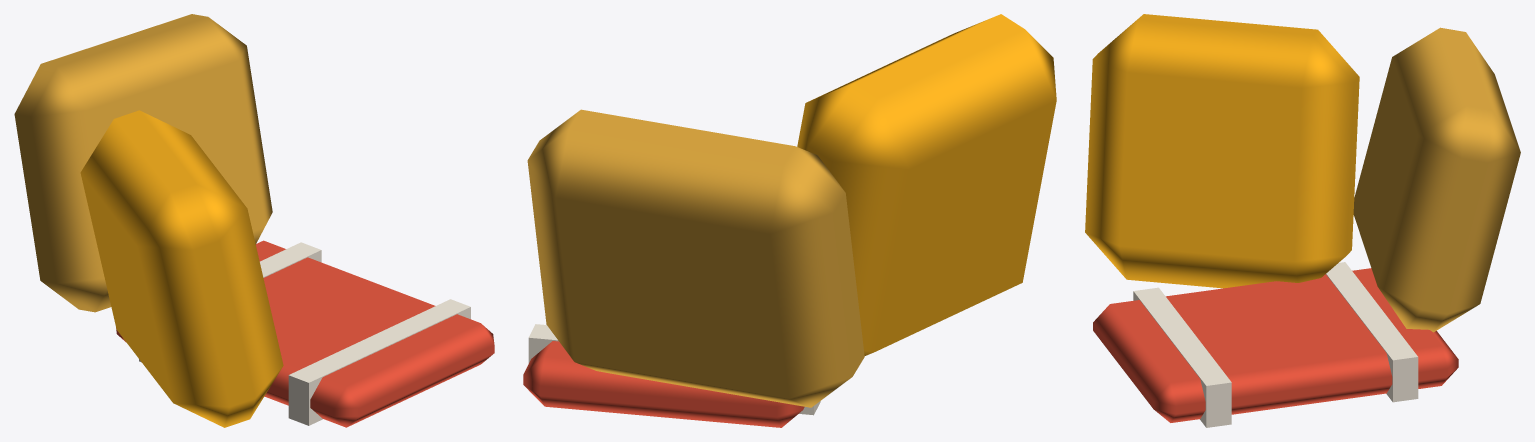
The model's file is station_special_ausstattung_2_1.glb.
3 renders of one model, left to right at view 1: azimuth 30°, elevation 25°; view 2: azimuth 150°, elevation 25°; view 3: azimuth 270°, elevation 25°, orthographic. The views are drawn at different scales.
Parts seen in each view (by area): view 1: station_special_ausstattung_2_1; view 2: station_special_ausstattung_2_1; view 3: station_special_ausstattung_2_1.
Boxes of the visible parts, <box> form: station_special_ausstattung_2_1: <box>14,14,494,427</box>; station_special_ausstattung_2_1: <box>523,14,1056,427</box>; station_special_ausstattung_2_1: <box>1085,14,1520,427</box>.
Size of the model in its own units: 0.4664 by 0.3228 by 0.4891.
